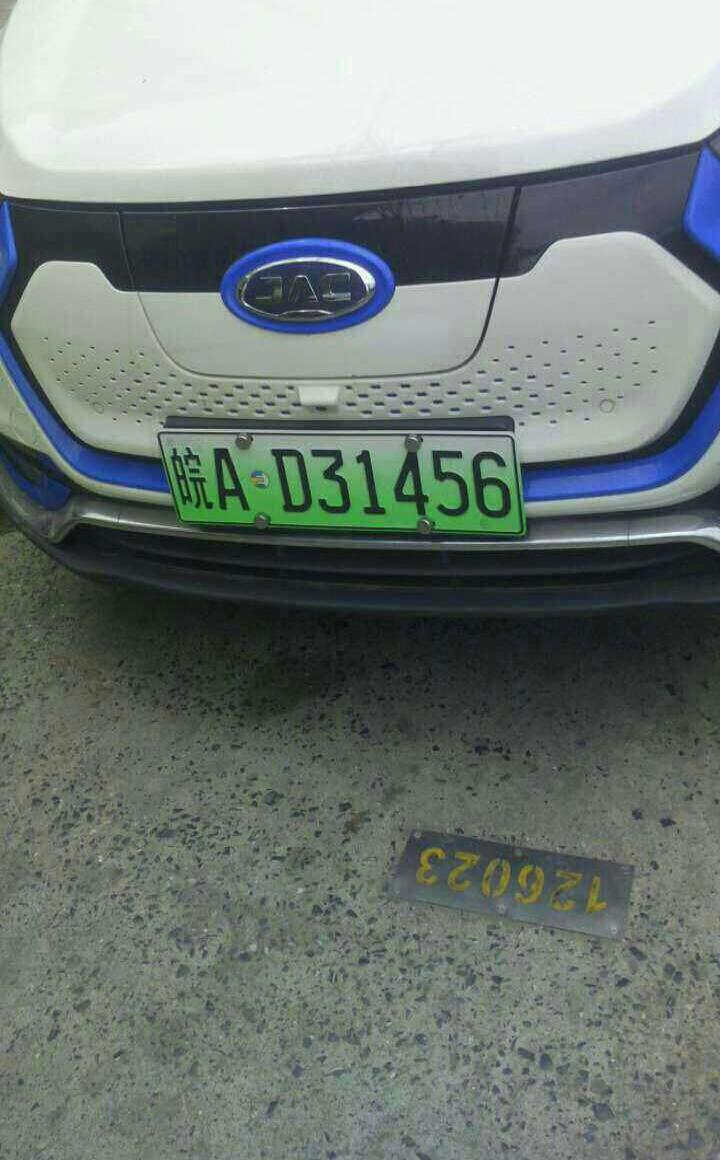car_id: (154, 428, 529, 539)
